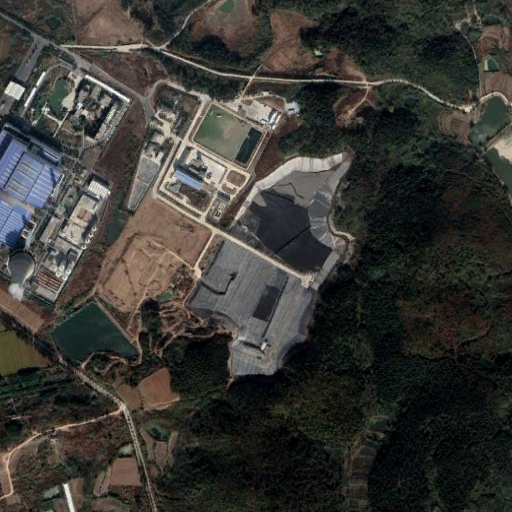lf: (186, 154, 355, 379)
